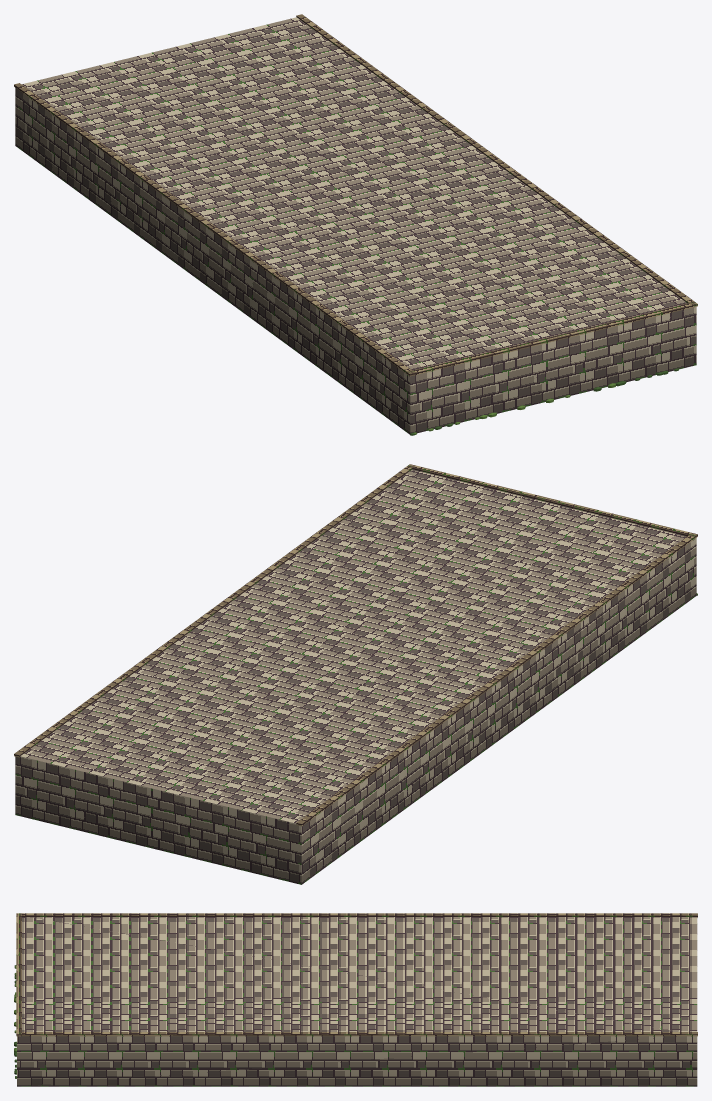
Rendered from scene_wall_w.glb.
3 renders of one model, top to bottom at view 1: azimuth 30°, elevation 25°; view 2: azimuth 150°, elevation 25°; view 3: azimuth 270°, elevation 25°, orthographic. The views are drawn at different scales.
Visible parts, largest first — view 1: scene_wall_w; view 2: scene_wall_w; view 3: scene_wall_w.
Boxes of the visible parts, box(x1,y1,x2,y2) form: scene_wall_w: box(14, 14, 697, 435); scene_wall_w: box(14, 464, 697, 884); scene_wall_w: box(14, 913, 697, 1086).
Bounding box in the file's own units: 18.1 × 3.77 × 43.24.
2 materials, 1 textured.
